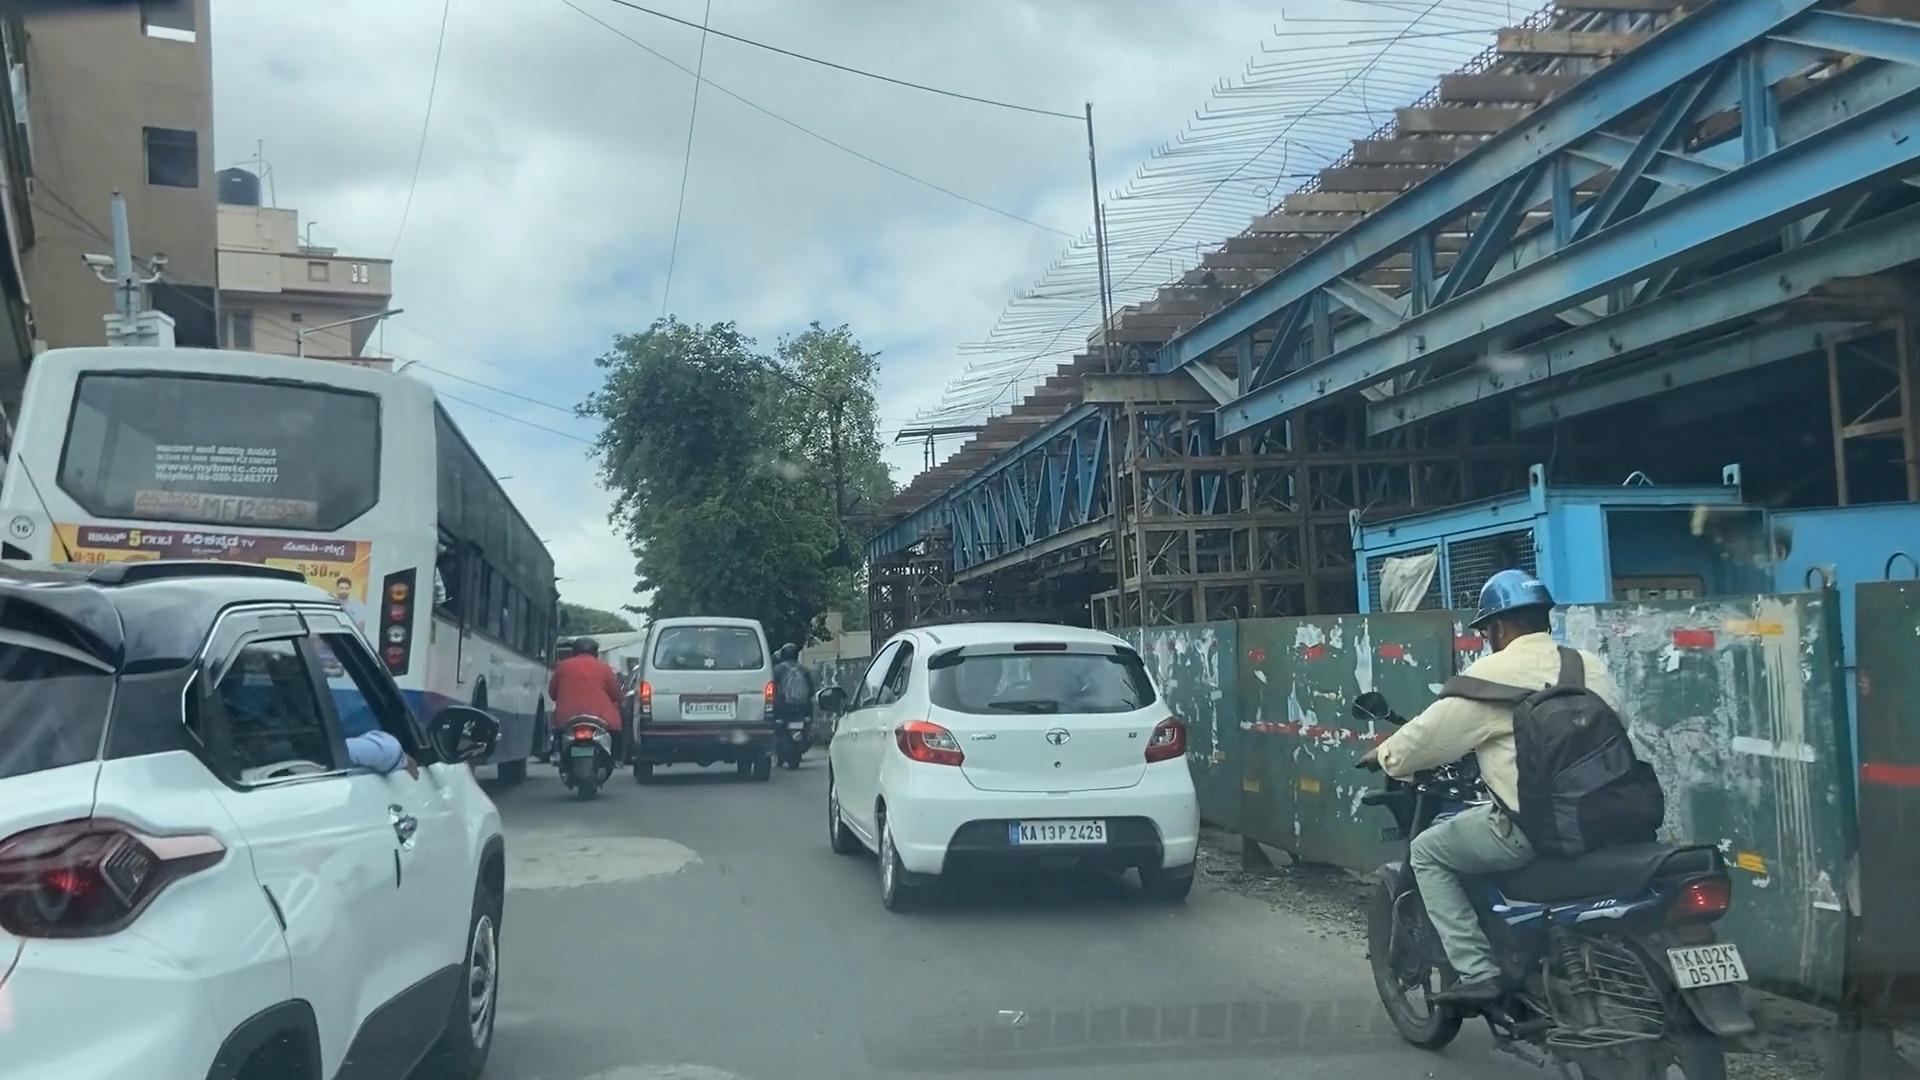LMV: (1364, 597, 1741, 1067), (886, 630, 1196, 890), (638, 616, 779, 777), (556, 632, 613, 806)
RoadDamages: (509, 824, 731, 887), (564, 1052, 754, 1080)
